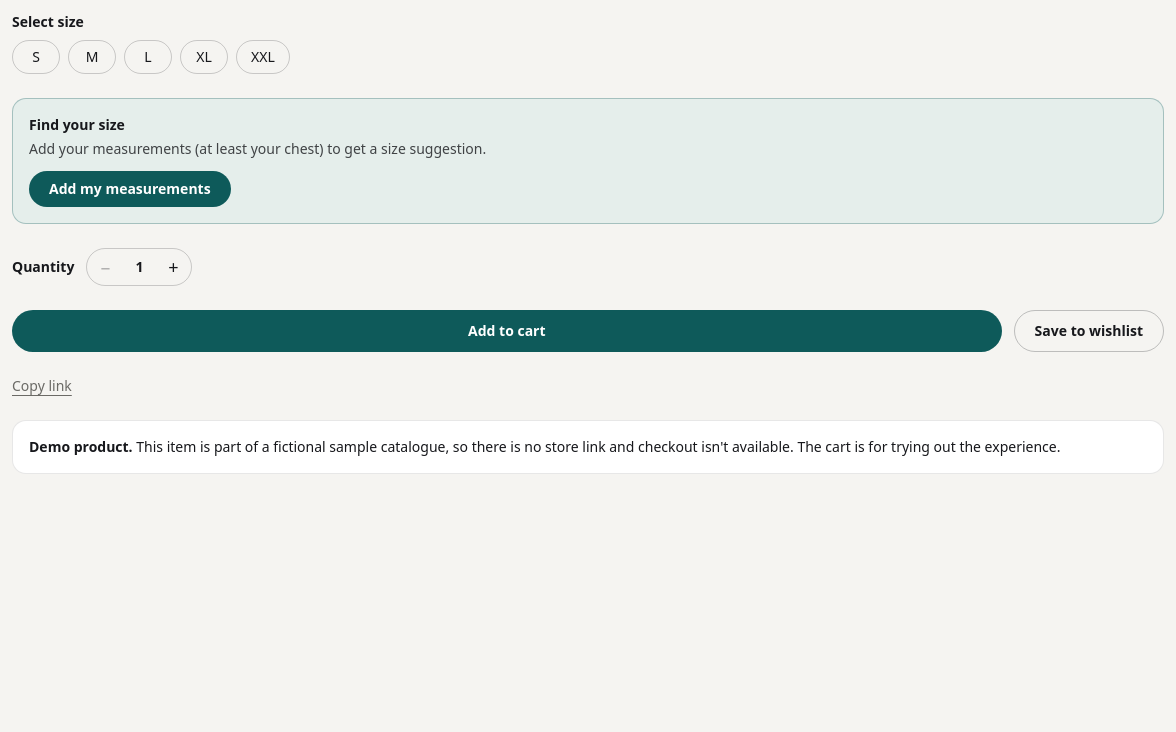
Test: product detail: size, quantity, add to cart › adds the chosen size and quantity, and persists to localStorage
Click the button "M": (92, 57) [68,40,116,74]
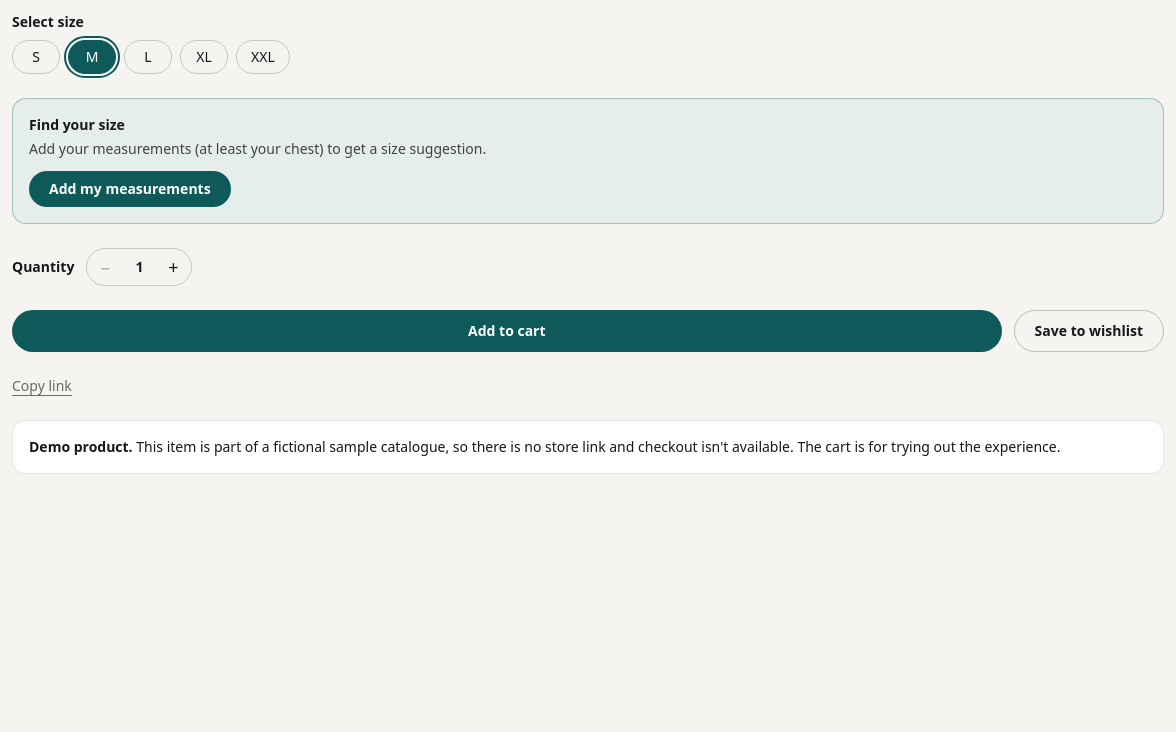
Expected: the button "M" is pressed, [68,40,116,74]
Click the button named "Increase quantity": (173, 267) [155,249,191,285]
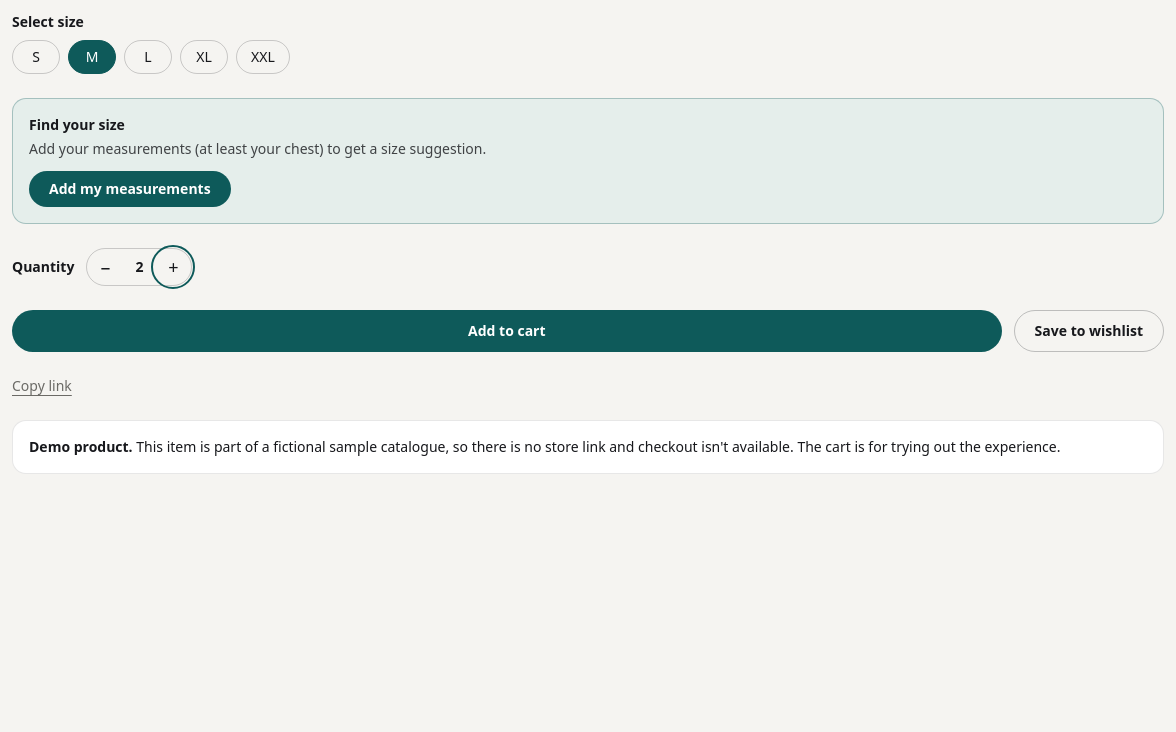
Click the button "Add to cart": (507, 331) [12,310,1002,352]
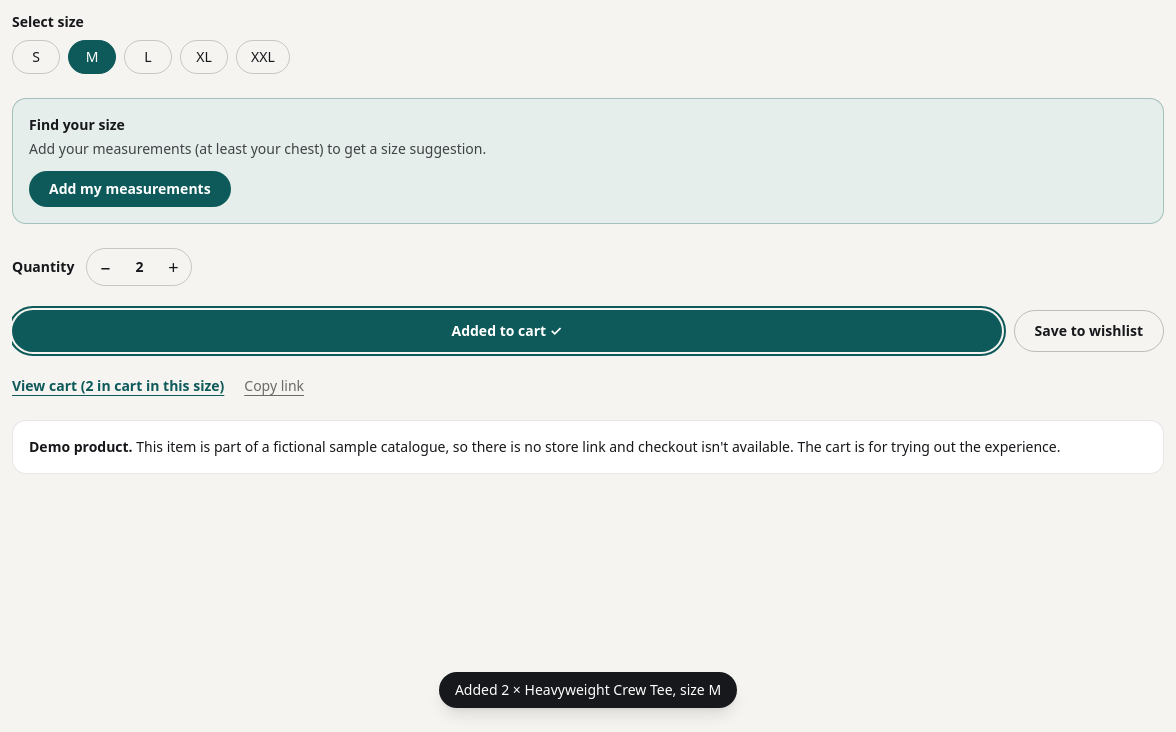
Expected: the button "Added to cart ✓" is shown, [12,310,1002,352]
